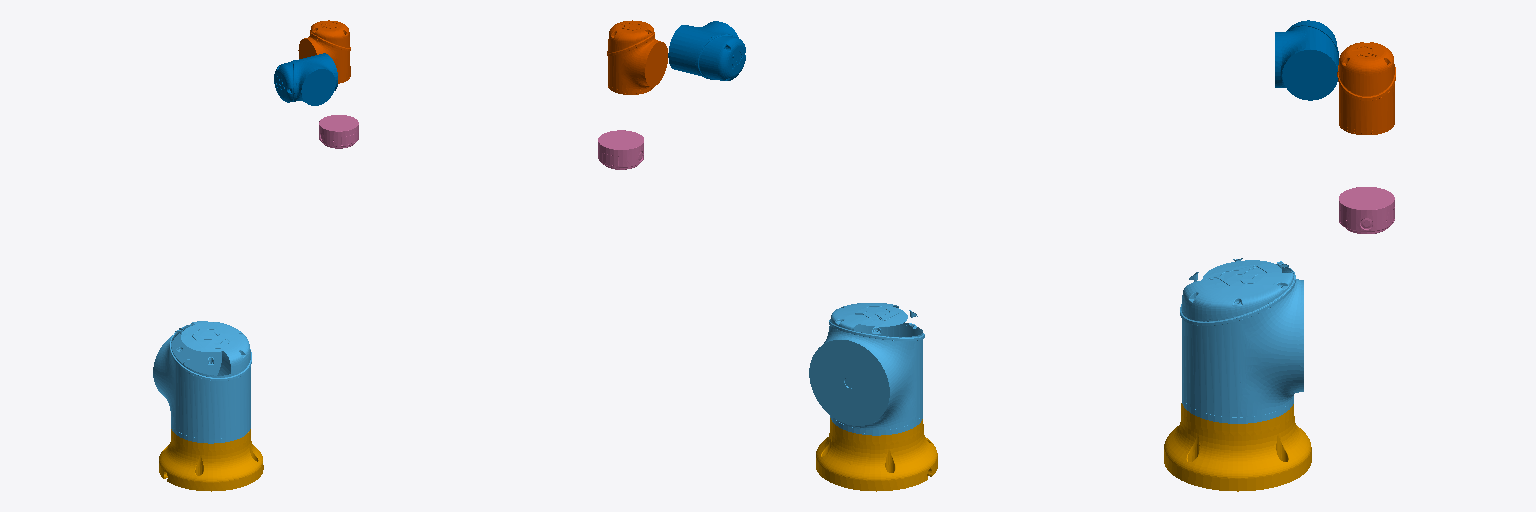
URDF robot description (ec612):
<?xml version="1.0" encoding="utf-8"?>

<robot xmlns:xacro="http://www.ros.org/wiki/xacro" name="ec612">

   <link name="base_link">
   <inertial>
      <origin xyz="-0.0009283 -9.3169E-06 0.05675" rpy="0 0 0" />
      <mass value="0.96661" />
      <inertia ixx="0.0024056" ixy="-4.4072E-08" ixz="-3.4836E-05" iyy="0.0022827" iyz="-2.2372E-07" izz="0.0035887" />
   </inertial>
   <visual>
      <origin xyz="0 0 0" rpy="0 0 0" />
      <geometry>
         <mesh filename="../meshes/base_link.STL" />
      </geometry>
      <!-- <material name="">
         <color rgba="0.79216 0.81961 0.93333 1" />
      </material> -->
   </visual>
   <collision>
      <origin xyz="0 0 0" rpy="0 0 0" />
      <geometry>
         <mesh filename="../meshes/base_link.STL" />
      </geometry>
   </collision>
   </link>
   <link name="link1">
   <inertial>
      <origin xyz="-3.9632E-06 0.010506 -0.0056292" rpy="0 0 0" />
      <mass value="3.5947" />
      <inertia ixx="0.01211" ixy="-1.906E-07" ixz="-5.9544E-08" iyy="0.011358" iyz="-0.0010317" izz="0.012021" />
   </inertial>
   <visual>
      <origin xyz="0 0 0" rpy="0 0 0" />
      <geometry>
         <mesh filename="../meshes/link1.STL" />
      </geometry>
      <!-- <material name="">
         <color rgba="1 1 1 1" />
      </material> -->
   </visual>
   <collision>
      <origin xyz="0 0 0" rpy="0 0 0" />
      <geometry>
         <mesh filename="../meshes/link1.STL" />
      </geometry>
   </collision>
   </link>
   <joint name="joint1" type="revolute">
      <origin xyz="0 0 0.185" rpy="0 0 0" />
      <parent link="base_link" />
      <child link="link1" />
      <axis xyz="0 0 1" />
      <limit lower="-6.2832" upper="6.2832" effort="200" velocity="2.0944" />
   </joint>
   <link name="link2">
   <inertial>
      <origin xyz="0.2558 8.685E-07 0.18308" rpy="0 0 0" />
      <mass value="10.706" />
      <inertia ixx="0.024512" ixy="2.4186E-07" ixz="-0.00065236" iyy="0.11916" iyz="3.9378E-07" izz="0.11941" />
   </inertial>
   <visual>
      <origin xyz="0.0015 0 0.174" rpy="-1.57 0 1.57" />
      <geometry>
         <mesh filename="../meshes/link2.dae" />
      </geometry>
      <!-- <material name="">
         <color rgba="1 1 1 1" />
      </material> -->
   </visual>
   <collision>
      <origin xyz="0.0015 0 0.174" rpy="-1.5708 0 1.5708" />
      <geometry>
         <mesh filename="../meshes/link2_decimated.dae" />
      </geometry>
   </collision>
   </link>
   <joint name="joint2" type="revolute">
      <origin xyz="0 0 0" rpy="-1.5708 -2.0935 0" />
      <parent link="link1" />
      <child link="link2" />
      <axis xyz="0 0 1" />
      <limit lower="-6.2832" upper="6.2832" effort="200" velocity="2.0944" />
   </joint>
   <link name="link3">
   <inertial>
      <origin xyz="0.28329 -7.9581E-06 0.060967" rpy="0 0 0" />
      <mass value="4.5456" />
      <inertia ixx="0.0049702" ixy="-1.4106E-07" ixz="0.00018593" iyy="0.050299" iyz="-2.6283E-07" izz="0.0503" />
   </inertial>
   <visual>
      <origin xyz="-0.001 0 0.12" rpy="3.14 4.71 0" />
      <geometry>
         <mesh filename="../meshes/link3.dae" />
      </geometry>
      <!-- <material name="">
         <color rgba="1 1 1 1" />
      </material>  -->
   </visual>
   <collision>
      <origin xyz="-0.001 0 0.12" rpy="3.14 4.71 0" />
      <geometry>
         <mesh filename="../meshes/link3.dae" />
      </geometry>
   </collision>
   </link>
   <joint name="joint3" type="revolute">
      <origin xyz="0.615 0 0" rpy="0 0 2.09" />
      <parent link="link2" />
      <child link="link3" />
      <axis xyz="0 0 1" />
      <limit lower="-2.7925" upper="2.7925" effort="150" velocity="2.618" />
   </joint>
   <link name="link4">
   <inertial>
      <origin xyz="0.000499517889352763 0.000875789216374712 0.168282791916811" rpy="0 0 0" />
      <mass value="0.843449158786285" />
      <inertia ixx="0.000924074695306208" ixy="-1.6181467913015E-08" ixz="7.26551673486314E-10"
         iyy="0.000889444283147283" iyz="-0.000128958334773031" izz="0.00087341536640418" />
   </inertial>
   <visual>
      <origin xyz="0 0 0" rpy="0 0 0" />
      <geometry>
         <mesh filename="../meshes/link4.STL" />
      </geometry>
      <!-- <material name="">
         <color rgba="1 1 1 1" />
      </material> -->
   </visual>
   <collision>
      <origin xyz="0 0 0" rpy="0 0 0" />
      <geometry>
         <mesh filename="../meshes/link4.STL" />
      </geometry>
   </collision>
   </link>
   <joint name="joint4" type="revolute">
      <origin xyz="0.572 0 0" rpy="0 0 -1.57" />
      <parent link="link3" />
      <child link="link4" />
      <axis xyz="0 0 1" />
      <limit lower="-6.2832" upper="6.2832" effort="35" velocity="3.6652" />
   </joint>
   <link name="link5">
   <inertial>
      <origin xyz="0.000499517889352097 0.000875839859510064 0.110782741273677" rpy="0 0 0" />
      <mass value="0.843449158786269" />
      <inertia ixx="0.000924074695306195" ixy="-1.6181467914913E-08" ixz="7.26551670563271E-10"
         iyy="0.000889444283147262" iyz="-0.000128958334773028" izz="0.00087341536640416" />
   </inertial>
   <visual>
      <origin xyz="0 0 0" rpy="0 0 0" />
      <geometry>
         <mesh filename="../meshes/link5.STL" />
      </geometry>
      <!-- <material name="">
         <color rgba="1 1 1 1" />
      </material> -->
   </visual>
   <collision>
      <origin xyz="0 0 0" rpy="0 0 0" />
      <geometry>
         <mesh filename="../meshes/link5.STL" />
      </geometry>
   </collision>
   </link>
   <joint name="joint5" type="revolute">
      <origin xyz="0 0 0.174" rpy="-1.5708 1.57 0" />
      <parent link="link4" />
      <child link="link5" />
      <axis xyz="0 0 1" />
      <limit lower="-6.2832" upper="6.2832" effort="30" velocity="3.6652" />
   </joint>
   <link name="link6">
   <inertial>
      <origin xyz="0.00050459 -0.00047999 -0.021345" rpy="0 0 0" />
      <mass value="0.20756" />
      <inertia ixx="0.00010768" ixy="-1.152E-09" ixz="-4.7861E-09" iyy="0.00011933" iyz="-8.1484E-08"
         izz="0.00017733" />
   </inertial>
   <visual>
      <origin xyz="0 0 0" rpy="0 0 0" />
      <geometry>
         <mesh filename="../meshes/link6.STL" />
      </geometry>
      <!-- <material name="">
         <color rgba="0.49804 0.49804 0.49804 1" />
      </material> -->
   </visual>
   <collision>
      <origin xyz="0 0 0" rpy="0 0 0" />
      <geometry>
         <mesh filename="../meshes/link6.STL" />
      </geometry>
   </collision>
   </link>
   <joint name="joint6" type="revolute">
      <origin xyz="0 0.103 0.116" rpy="-1.5708 3.14 0" />
      <parent link="link5" />
      <child link="link6" />
      <axis xyz="0 0 1" />
      <limit lower="-6.2832" upper="6.2832" effort="25" velocity="3.6652" />
   </joint>
   <link name="flan">
     <inertial>
    <origin xyz="0 0 0" rpy="0 0 0" />
    <mass value="0.001" />
    <inertia ixx="1e-6" ixy="0" ixz="0" iyy="1e-6" iyz="0" izz="1e-6" />
  </inertial>
  </link>
   <joint name="flan_joint" type="fixed">
      <origin xyz="0 0 0" rpy="0 0 0" />
      <parent link="link6" />
      <child link="flan" />
   </joint>   

           <gazebo reference="flan_joint">   <!-- use the name of your flange joint -->
            <preserveFixedJoint>true</preserveFixedJoint>
        </gazebo>
                <gazebo reference="gripper_base_joint">  
            <preserveFixedJoint>true</preserveFixedJoint>
        </gazebo>
  
</robot>

--- Facts derived from the render (not from the file) ---
3 views of the same robot in one strip: view 1: azimuth 30°, elevation 25°; view 2: azimuth 150°, elevation 25°; view 3: azimuth 270°, elevation 25° (orthographic).
Robot: ec612 — 8 links, 7 joints (6 revolute, 1 fixed); root link base_link; default pose: all joints at 0.
Visible links, largest first — view 1: link1, base_link, link4, link5, link6; view 2: link1, base_link, link5, link4, link6; view 3: link1, base_link, link5, link4, link6.
Link boxes in pixels (x1,y1,x2,y2): link1: (153, 321, 251, 443); base_link: (159, 429, 263, 491); link4: (274, 53, 337, 105); link5: (298, 20, 350, 83); link6: (319, 115, 358, 148); link1: (809, 303, 924, 435); base_link: (816, 418, 937, 491); link5: (607, 20, 667, 94); link4: (668, 21, 745, 80); link6: (598, 130, 643, 169); link1: (1180, 258, 1303, 423); base_link: (1164, 403, 1311, 491); link5: (1337, 42, 1395, 134); link4: (1275, 20, 1338, 100); link6: (1339, 187, 1394, 233).
Bounding box of the posed robot: 0.5193 × 0.3137 × 0.7786 m (x, y, z).
Meshes: 7 distinct files referenced, 5 mesh visuals loaded (5 binary STL); not drawn: 2 (reference not matched to a file when rendering).
